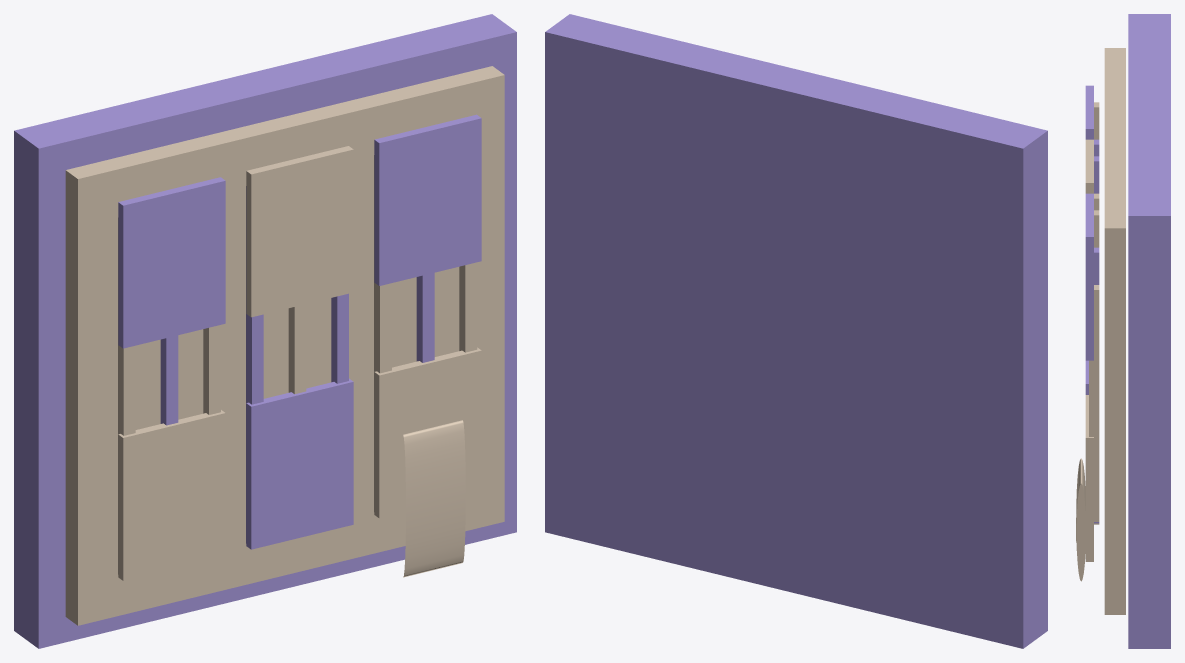
File: plan.gltf
The picture shows the model from 3 angles, left to right: view 1: azimuth 30°, elevation 25°; view 2: azimuth 150°, elevation 25°; view 3: azimuth 270°, elevation 25°; orthographic projection. The views are drawn at different scales.
Visible parts, largest first — view 1: paper, frame, room_0, room_1, room_2, room_3, room_4, room_5, legend, route_0, route_3, route_6 (+6 smaller); view 2: frame; view 3: frame, paper, route_8, room_2, room_5, legend, room_0, room_1, route_6, route_7, route_0, route_3.
Boxes of the visible parts, left/top/right/bottom form: paper: left=65, top=66, right=504, bottom=625; frame: left=14, top=14, right=516, bottom=648; room_0: left=118, top=177, right=225, bottom=348; room_1: left=246, top=146, right=353, bottom=317; room_2: left=374, top=114, right=481, bottom=285; room_3: left=118, top=410, right=225, bottom=580; room_4: left=246, top=378, right=353, bottom=549; room_5: left=374, top=347, right=481, bottom=518; legend: left=403, top=420, right=465, bottom=577; route_0: left=118, top=217, right=135, bottom=574; route_3: left=246, top=186, right=263, bottom=543; route_6: left=374, top=155, right=391, bottom=511; frame: left=545, top=14, right=1047, bottom=648; frame: left=1128, top=14, right=1170, bottom=648; paper: left=1104, top=48, right=1125, bottom=614; route_8: left=1089, top=285, right=1099, bottom=521; room_2: left=1085, top=193, right=1093, bottom=360; room_5: left=1085, top=395, right=1093, bottom=561; legend: left=1076, top=458, right=1085, bottom=581; room_0: left=1085, top=85, right=1093, bottom=139; room_1: left=1085, top=139, right=1093, bottom=193; route_6: left=1094, top=210, right=1099, bottom=524; route_7: left=1094, top=247, right=1099, bottom=523; route_0: left=1094, top=102, right=1099, bottom=139; route_3: left=1094, top=156, right=1099, bottom=193.
Bounding box in the file's own units: 0.56 × 0.56 × 0.111.
